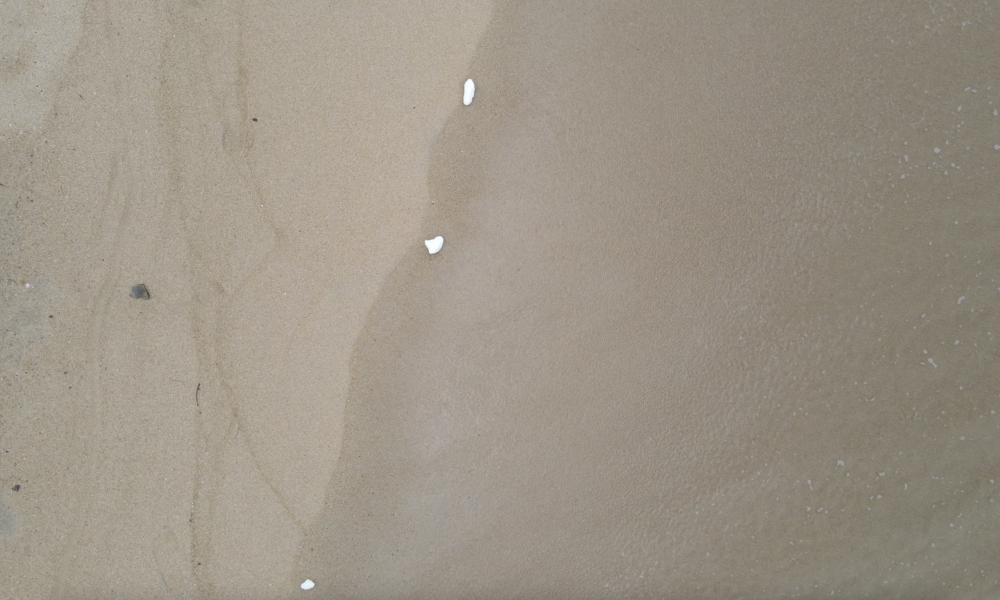styrofoam: (426, 235, 446, 254), (464, 78, 476, 107), (302, 577, 314, 591)
